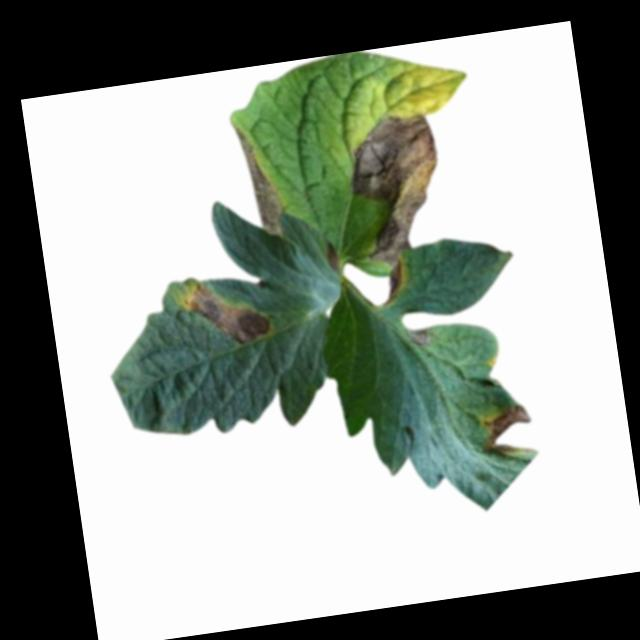Early_blight: (349, 109, 452, 267), (177, 273, 272, 355), (231, 121, 286, 240), (477, 404, 537, 460), (377, 262, 407, 308), (323, 240, 344, 281), (407, 327, 431, 350)
